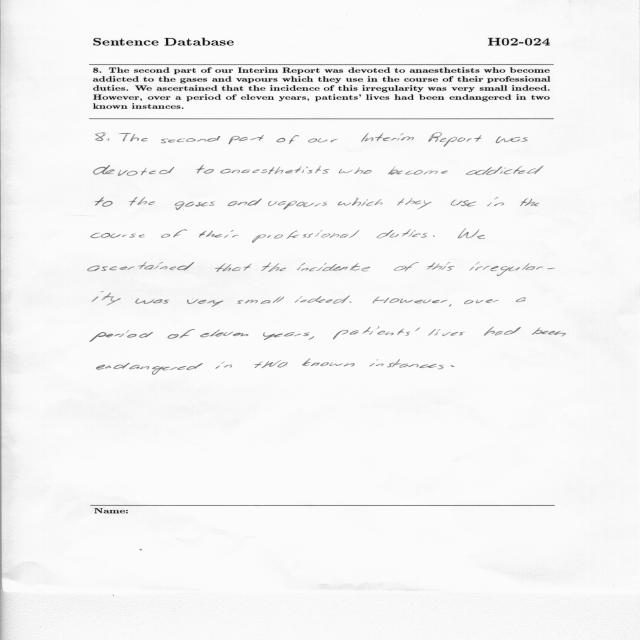word: (252, 230, 359, 243), (97, 363, 203, 375), (469, 262, 555, 276), (333, 327, 420, 339), (88, 263, 194, 272), (94, 165, 175, 176), (221, 166, 330, 174), (428, 133, 482, 147), (90, 330, 153, 342), (369, 359, 443, 369), (466, 166, 544, 175), (297, 263, 371, 271), (388, 166, 448, 175), (268, 201, 327, 210), (373, 297, 448, 304), (295, 295, 350, 304), (361, 133, 414, 142), (377, 229, 428, 238), (161, 136, 220, 143), (92, 292, 121, 306), (200, 330, 249, 338), (237, 296, 284, 304), (263, 332, 310, 340), (397, 198, 431, 209), (302, 359, 355, 366), (175, 201, 215, 210), (338, 198, 383, 206), (215, 263, 252, 272), (228, 135, 264, 144), (199, 230, 239, 238), (532, 328, 566, 337), (484, 327, 521, 335), (187, 299, 223, 307), (227, 199, 262, 207), (167, 329, 195, 339), (254, 360, 288, 368), (458, 229, 485, 239), (91, 233, 144, 238), (427, 262, 455, 271), (428, 329, 464, 336), (261, 262, 286, 272), (129, 197, 155, 206), (161, 229, 187, 238), (119, 133, 148, 141), (339, 167, 372, 174), (394, 263, 419, 272), (496, 137, 528, 144), (276, 135, 299, 144), (136, 298, 170, 304), (95, 197, 113, 207), (451, 200, 476, 207), (464, 300, 499, 305), (196, 165, 214, 174), (487, 197, 504, 206), (521, 198, 540, 206), (308, 138, 338, 143), (215, 362, 232, 369), (96, 133, 106, 141), (516, 298, 526, 303), (308, 336, 314, 339), (449, 304, 452, 307), (451, 365, 455, 367), (107, 138, 109, 141), (349, 301, 352, 303), (433, 235, 435, 237)
